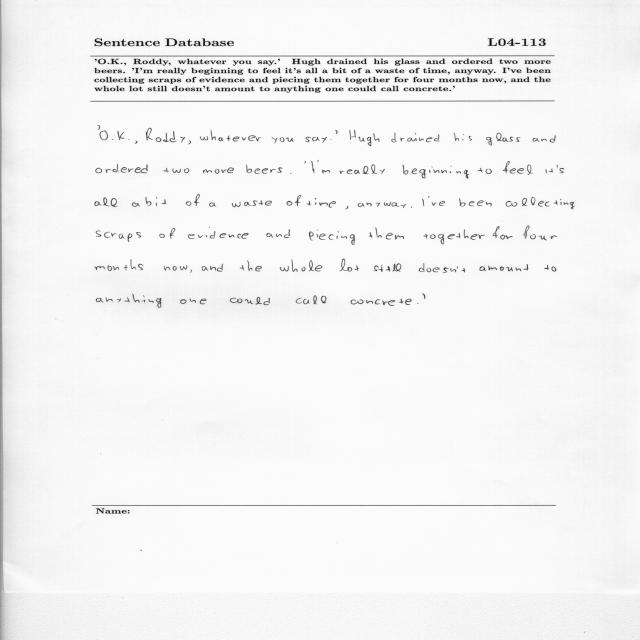word: (403, 165, 470, 179), (423, 230, 485, 245), (96, 294, 162, 308), (506, 197, 575, 209), (200, 130, 261, 142), (188, 227, 249, 239), (309, 230, 355, 245), (95, 259, 143, 271), (350, 130, 380, 147), (280, 260, 322, 272), (96, 231, 141, 242), (391, 133, 440, 143), (351, 298, 412, 306), (523, 226, 557, 240), (96, 164, 148, 173), (339, 165, 385, 175), (419, 263, 465, 273), (486, 133, 521, 146), (503, 161, 533, 175), (369, 228, 404, 240), (479, 264, 529, 271), (156, 131, 185, 143), (246, 165, 282, 174), (230, 297, 270, 305), (306, 198, 336, 208), (459, 198, 492, 207), (492, 226, 513, 240), (358, 202, 406, 208), (232, 201, 272, 208), (117, 131, 138, 144), (296, 296, 326, 305), (340, 259, 359, 272), (374, 263, 401, 272), (240, 261, 262, 272), (95, 197, 118, 207), (98, 125, 113, 140), (266, 229, 290, 238), (146, 197, 167, 206), (203, 168, 234, 174), (160, 228, 176, 239), (428, 196, 445, 206), (202, 264, 223, 272), (180, 299, 207, 305), (533, 136, 556, 143), (318, 161, 330, 174), (272, 137, 294, 144), (186, 195, 200, 206), (287, 195, 301, 206), (454, 133, 472, 141), (164, 265, 187, 271), (305, 137, 327, 143), (163, 168, 189, 173), (146, 128, 153, 140), (478, 168, 492, 174), (544, 265, 556, 272), (557, 165, 565, 173), (311, 161, 315, 173), (132, 202, 140, 207), (209, 202, 216, 207), (546, 169, 553, 173), (423, 294, 426, 299), (422, 199, 424, 206), (188, 141, 191, 145), (335, 130, 338, 134), (345, 206, 348, 209), (304, 161, 306, 164), (190, 270, 192, 273), (290, 173, 292, 174), (417, 303, 419, 304), (331, 139, 332, 140), (411, 207, 412, 208)
